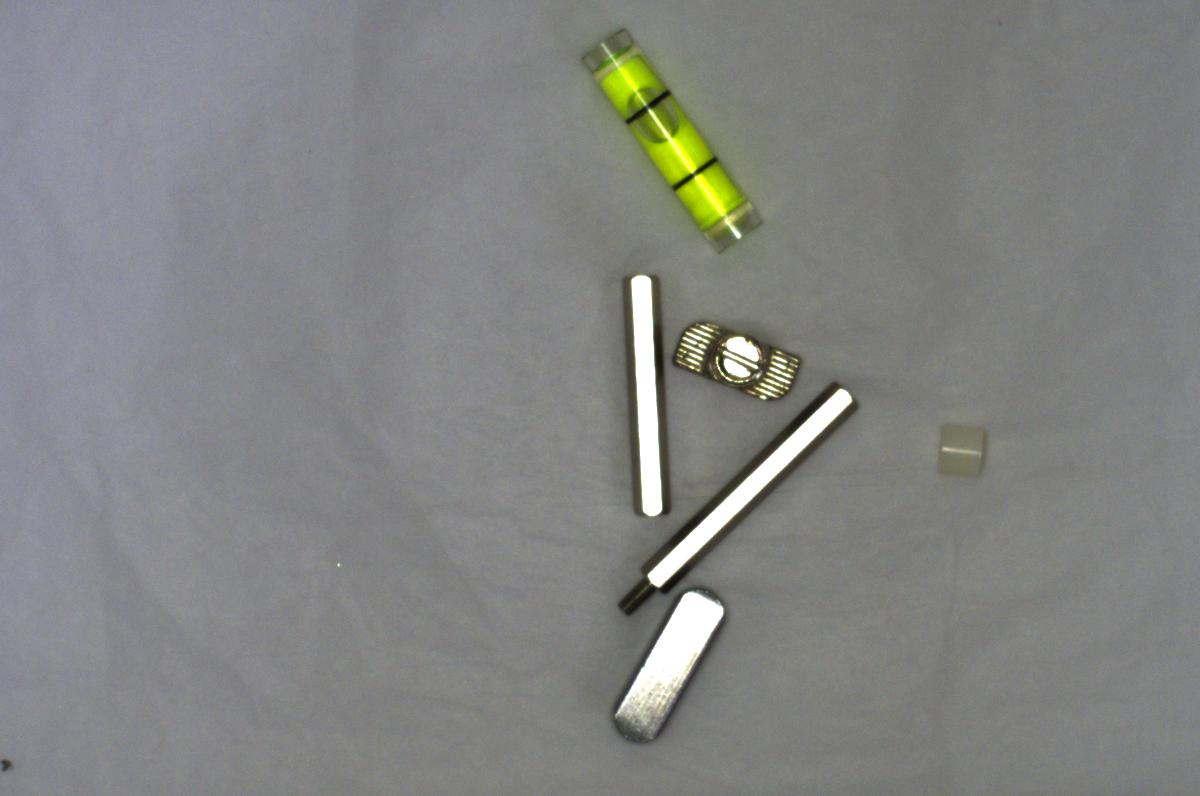Double hexagonal column: (615, 261, 679, 529)
Hexagonal steel column: (606, 379, 861, 608)
Horizontal bubble: (577, 20, 766, 253)
Keybar: (598, 587, 735, 752)
Plastic cushion pillar: (913, 409, 997, 486)
T-shaped screw: (665, 313, 805, 408)
